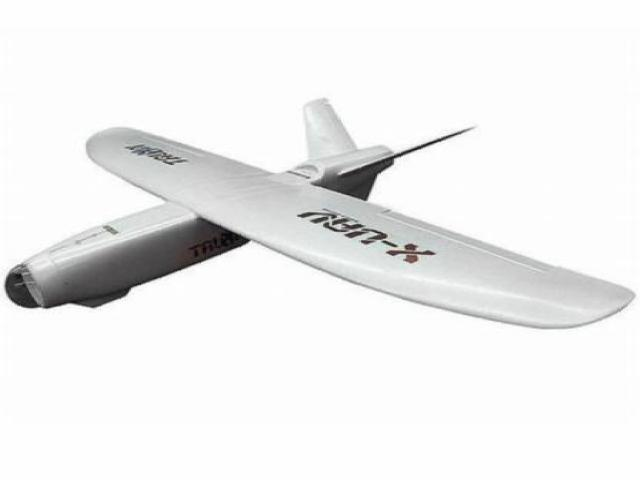uav: (6, 92, 636, 326)
